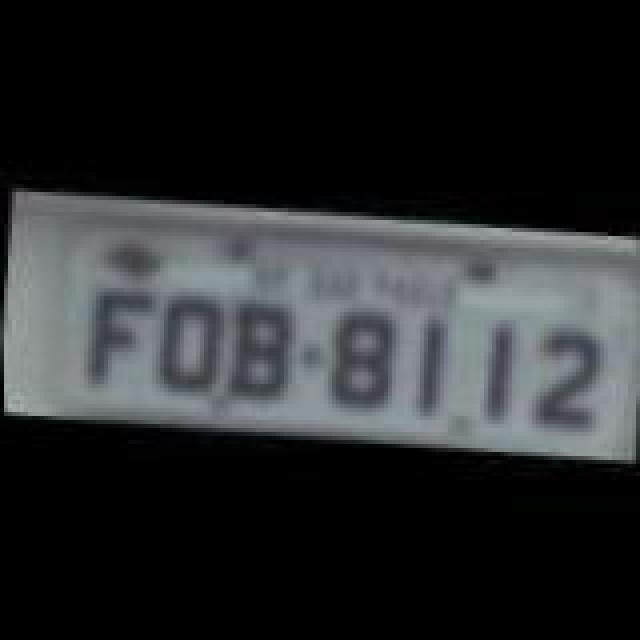1: (402, 308, 458, 416), (472, 308, 524, 420)
2: (516, 324, 608, 436)
8: (318, 296, 398, 408)
B: (220, 296, 292, 400)
F: (74, 270, 158, 386)
O: (146, 280, 222, 388)
